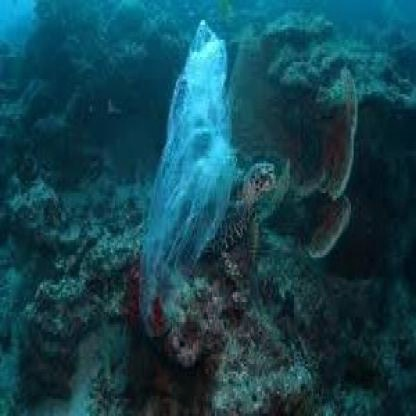pbag: (137, 15, 233, 344)
